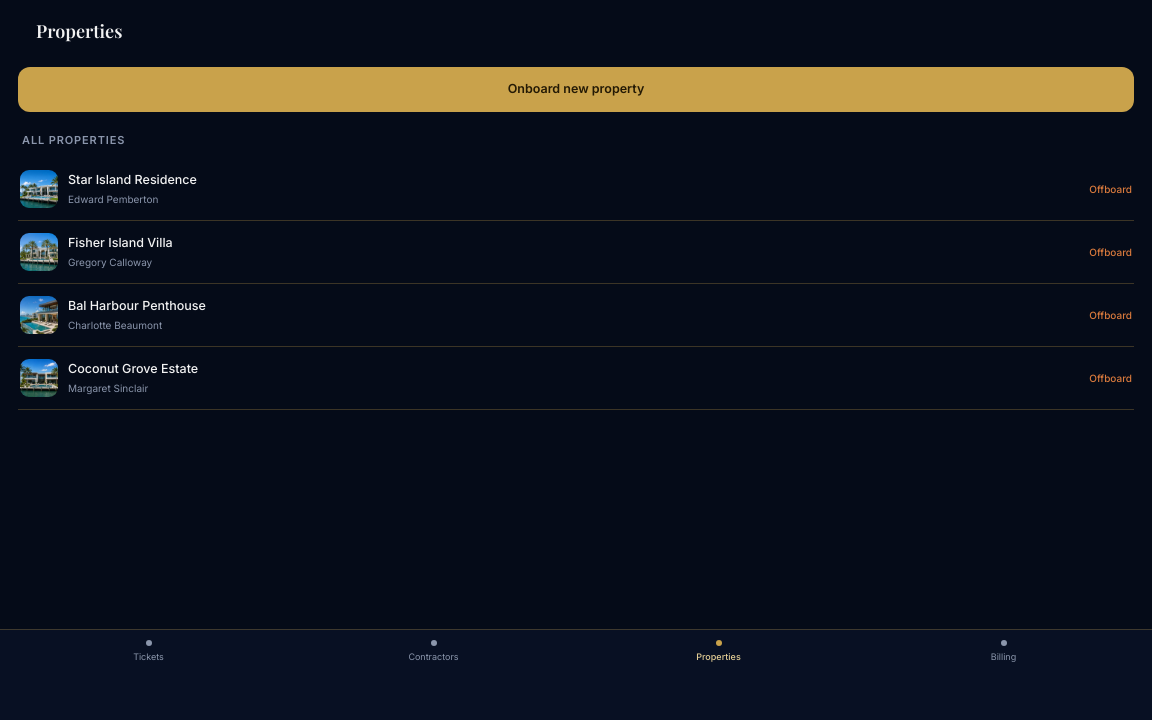
Test: Admin: Property onboarding wizard (3 steps, real state) › offboarding a property marks it Offboarded and removes the action link
The image size is (1152, 720).
Click the text "Offboard" in the row of "Star Island Residence" at [1111, 189], box [1089,182,1132,197]
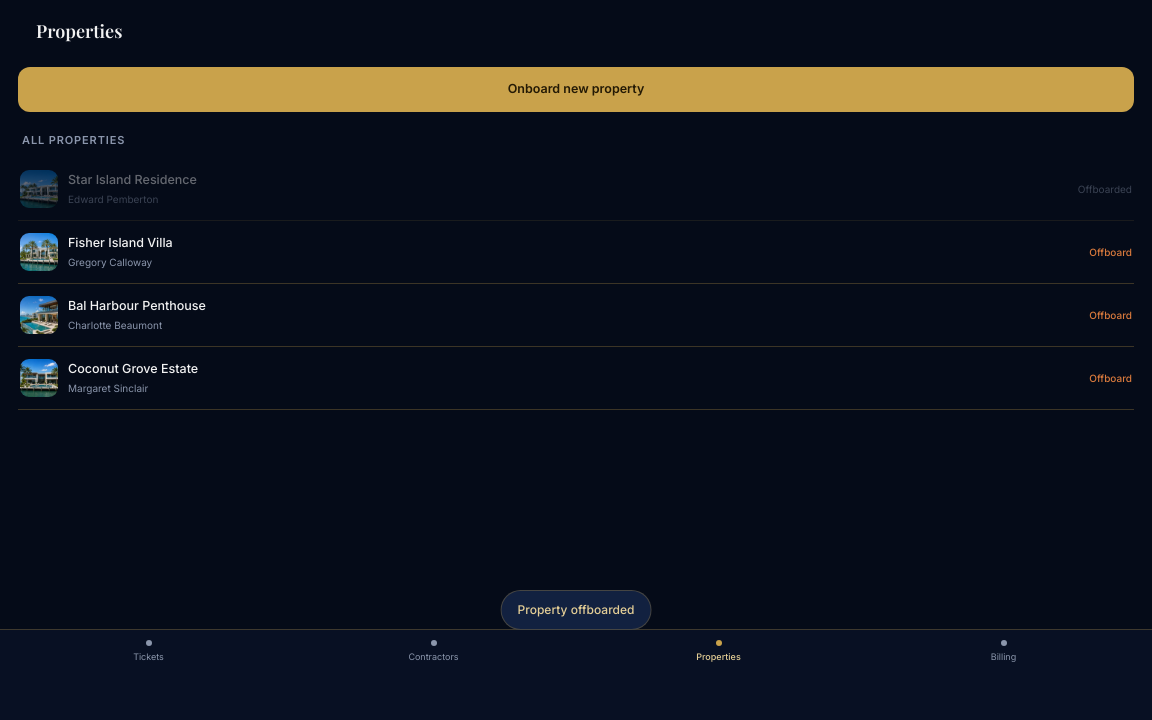
Expected: the text "Offboarded" is shown, [1078,182,1132,197]
